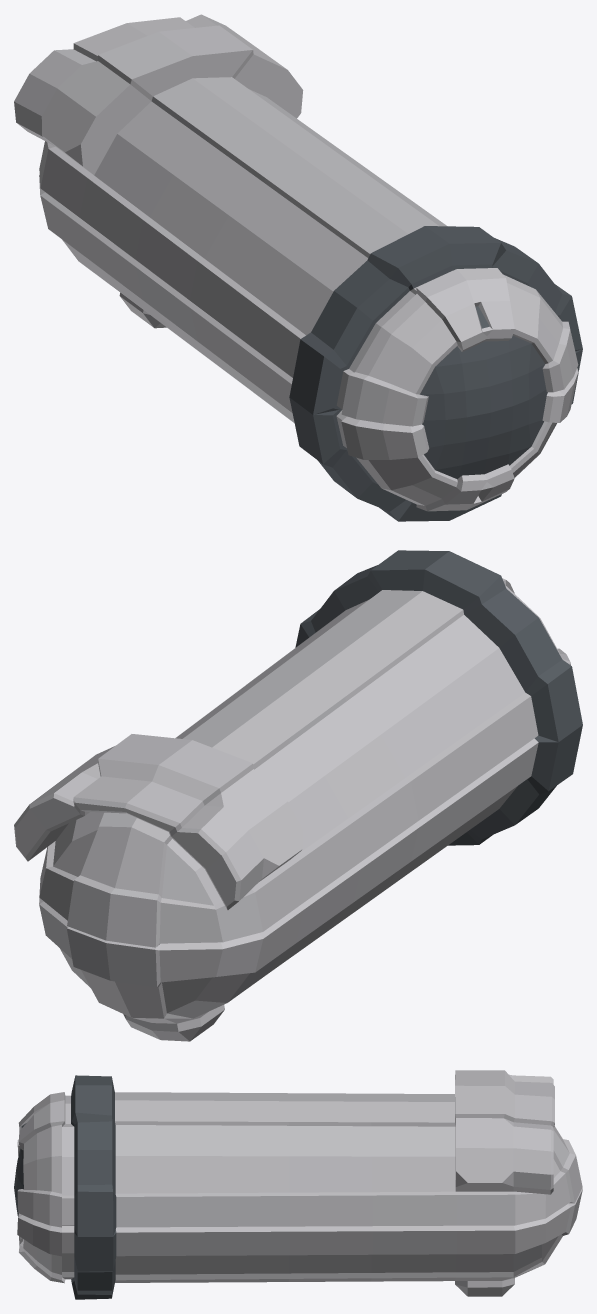
File: Fighter_03_Base.fbx
3 views of the same model, one above another, from view 1: azimuth 30°, elevation 25°; view 2: azimuth 150°, elevation 25°; view 3: azimuth 270°, elevation 25° (orthographic). The views are drawn at different scales.
Visible parts, largest first — view 1: Fighter_03_Base; view 2: Fighter_03_Base; view 3: Fighter_03_Base.
Part boxes in pixels (x1=…): Fighter_03_Base: x1=14, y1=14, x2=582, y2=521; Fighter_03_Base: x1=14, y1=550, x2=582, y2=1041; Fighter_03_Base: x1=14, y1=1070, x2=582, y2=1299.
Bounding box in the file's own units: 311 × 306 × 769.
2 materials, 2 textured.
